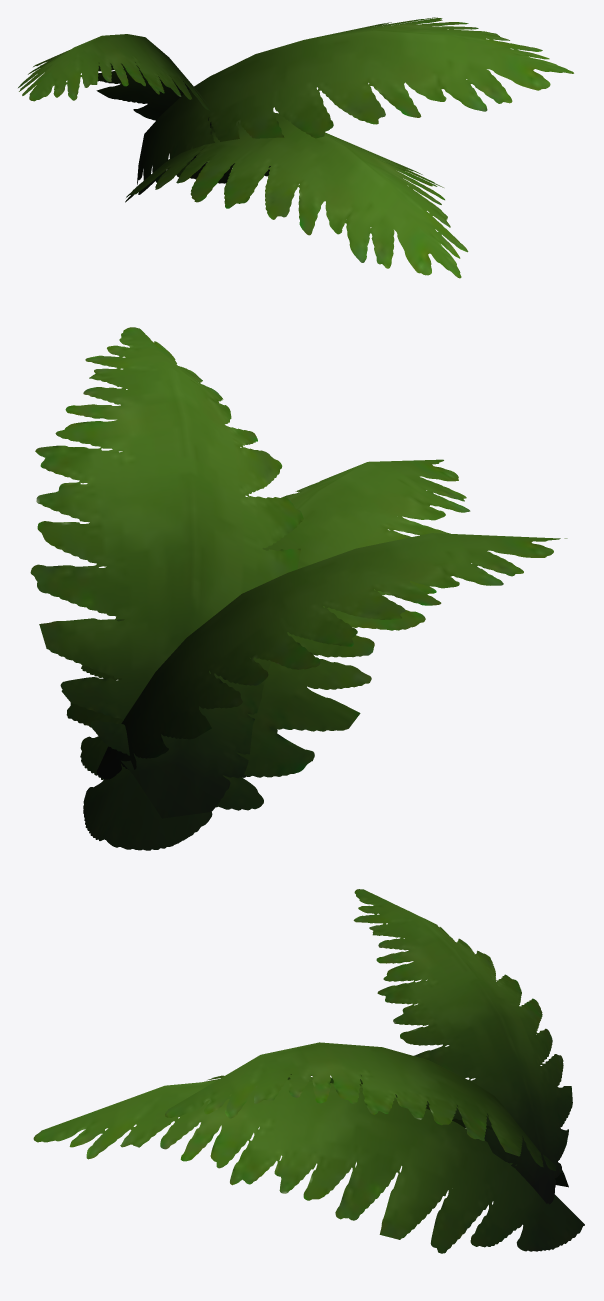
File: fern-1-lo.glb
3 views of the same model, one above another, from view 1: azimuth 30°, elevation 25°; view 2: azimuth 150°, elevation 25°; view 3: azimuth 270°, elevation 25° (orthographic). The views are drawn at different scales.
Visible parts, largest first — view 1: Fern_1; view 2: Fern_1; view 3: Fern_1.
Part boxes in pixels (bbox=[...]): Fern_1: bbox=[18, 17, 573, 278]; Fern_1: bbox=[30, 327, 567, 850]; Fern_1: bbox=[33, 889, 584, 1253].
Bounding box in the file's own units: 1.86 × 0.9779 × 2.02.
Materials: 1 (1 with a texture image).
